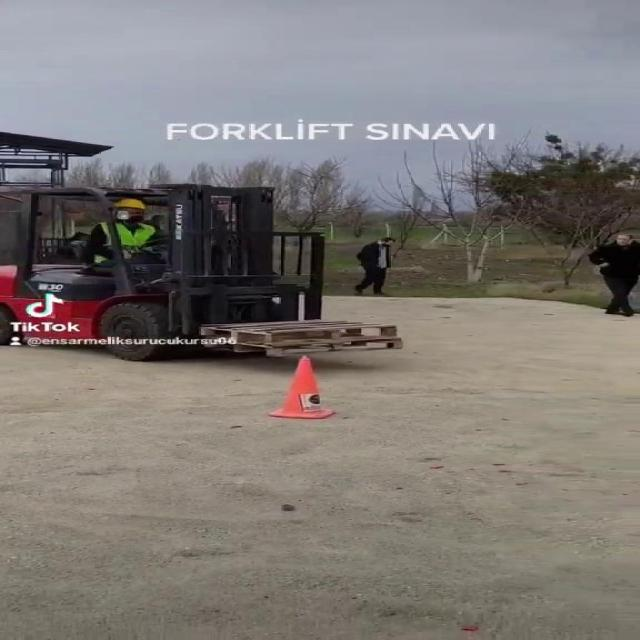forklift: (4, 187, 330, 357)
pallets: (180, 311, 434, 365)
person: (84, 195, 176, 276), (573, 225, 640, 327), (349, 232, 399, 304)
